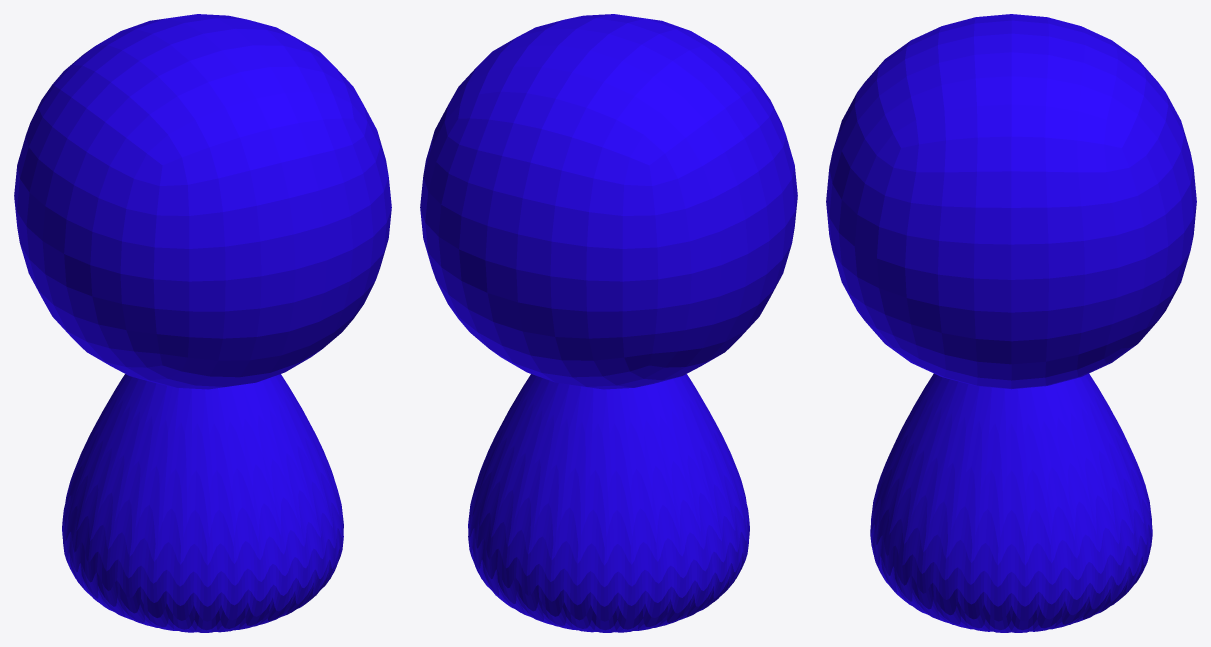
Rendered from TargetBlue.obj.
3 views of the same model, side by side, from view 1: azimuth 30°, elevation 25°; view 2: azimuth 150°, elevation 25°; view 3: azimuth 270°, elevation 25° (orthographic).
Parts seen in each view (by area): view 1: Cube; view 2: Cube; view 3: Cube.
Boxes of the visible parts, x1=… form: Cube: x1=14, y1=14, x2=391, y2=632; Cube: x1=420, y1=14, x2=797, y2=632; Cube: x1=826, y1=14, x2=1196, y2=632.
Bounding box in the file's own units: 1.68 × 2.92 × 1.68.
Materials: 1 (1 with a texture image).
